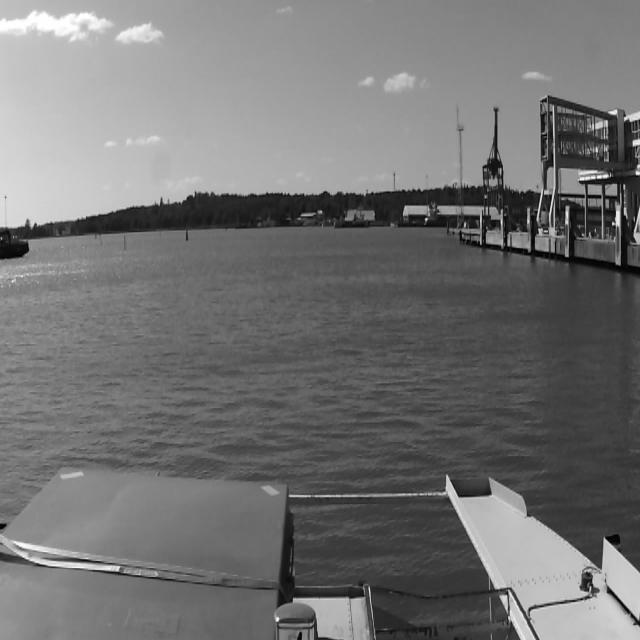buoy: (186, 228, 188, 242), (100, 234, 102, 245), (124, 236, 125, 250), (95, 233, 97, 239)
